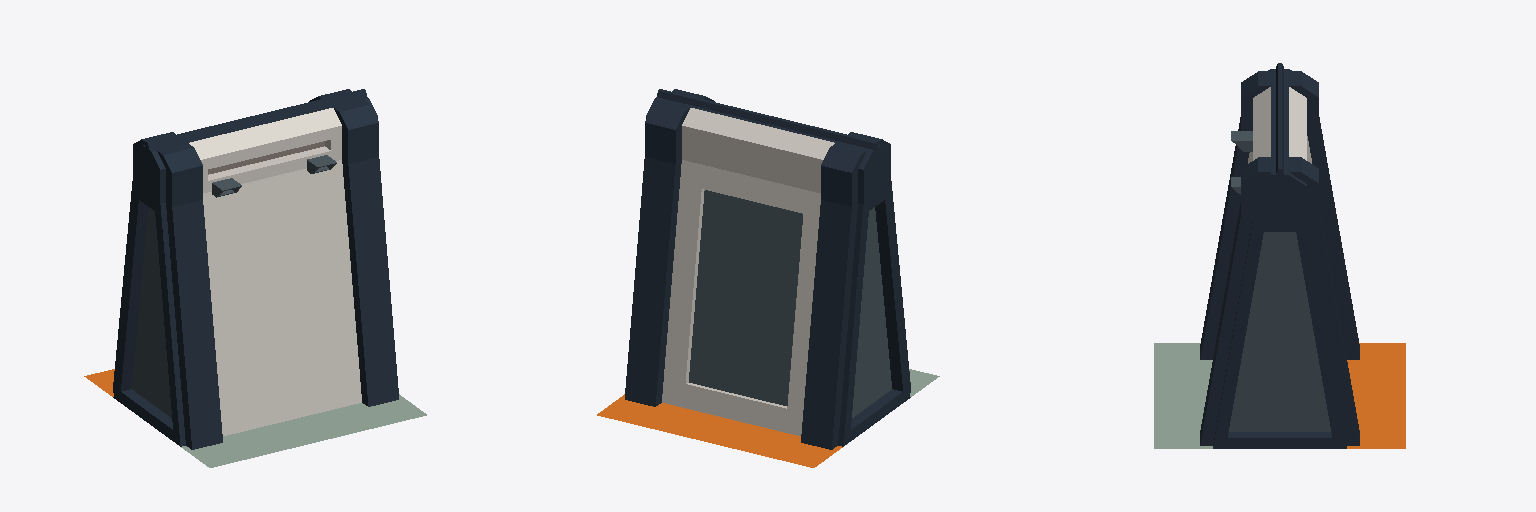
The picture shows the model from 3 angles: view 1: azimuth 30°, elevation 25°; view 2: azimuth 150°, elevation 25°; view 3: azimuth 270°, elevation 25°; orthographic projection.
Visible parts, largest first — view 1: Plane_Plane.002; view 2: Plane_Plane.002; view 3: Plane_Plane.002.
Part boxes in pixels (left/top/right/bottom): Plane_Plane.002: left=84, top=89, right=426, bottom=467; Plane_Plane.002: left=597, top=89, right=939, bottom=467; Plane_Plane.002: left=1154, top=63, right=1405, bottom=448.
Bounding box in the file's own units: 2 × 2.45 × 2.
Materials: 1 (1 with a texture image).